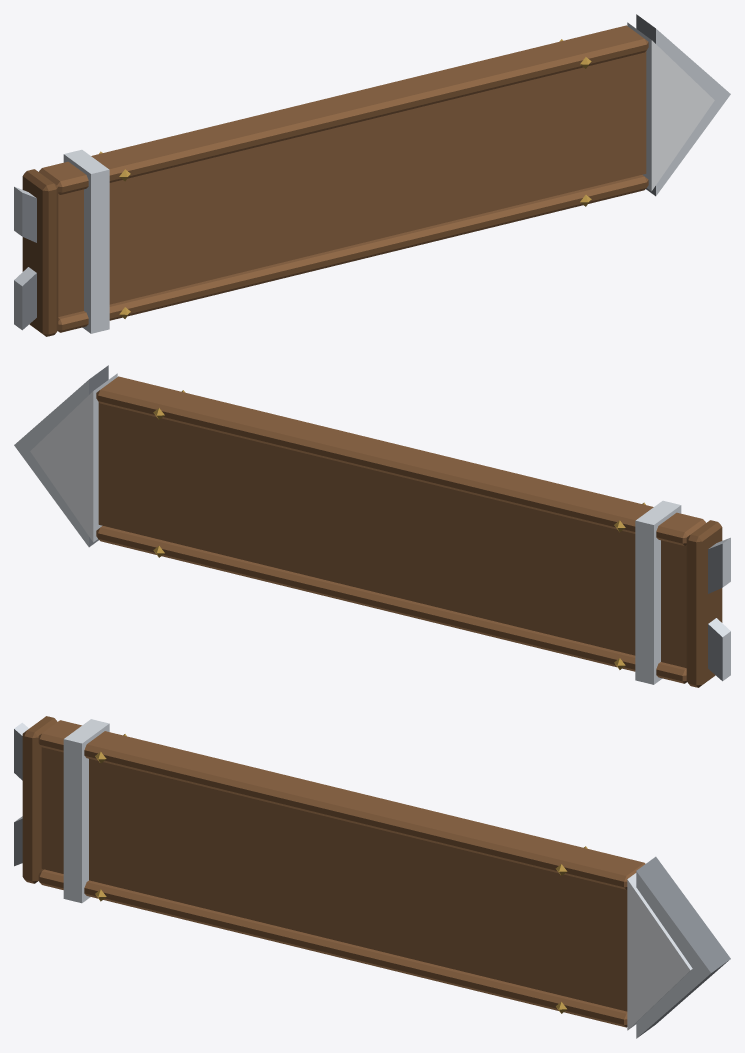
Rendered from SignArrowBoard.obj.
3 renders of one model, top to bottom at view 1: azimuth 30°, elevation 25°; view 2: azimuth 150°, elevation 25°; view 3: azimuth 330°, elevation 25°, orthographic.
Bounding box in the file's own units: 5.34 × 1.22 × 0.383.
